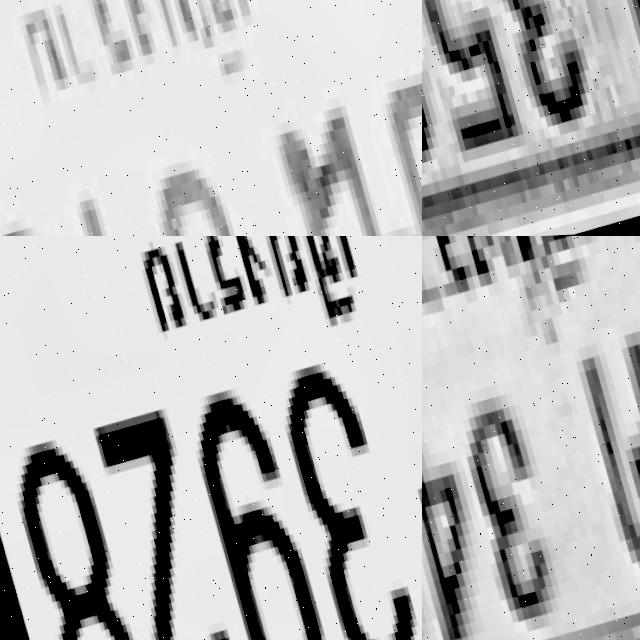license-plate: (0, 236, 422, 640), (0, 0, 422, 236), (422, 236, 640, 640), (422, 0, 640, 236)
